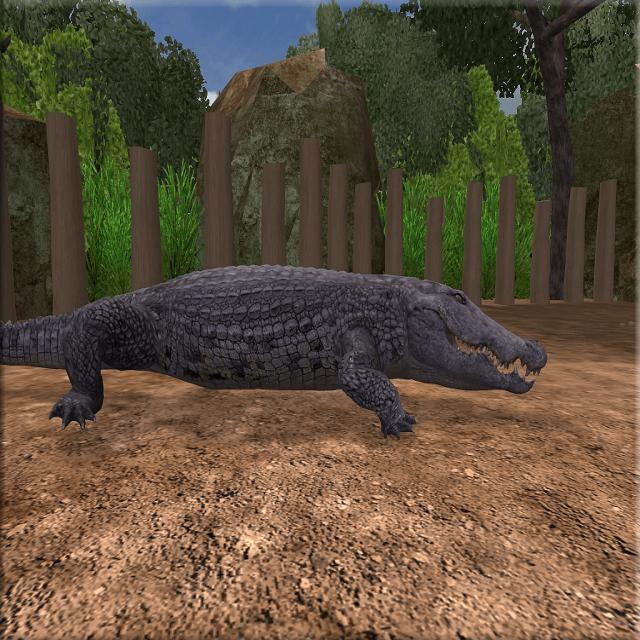not_pig: (0, 262, 548, 440)
